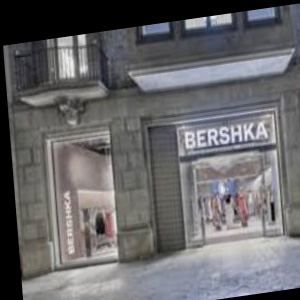bershka: (152, 56, 300, 191), (42, 109, 101, 266)
